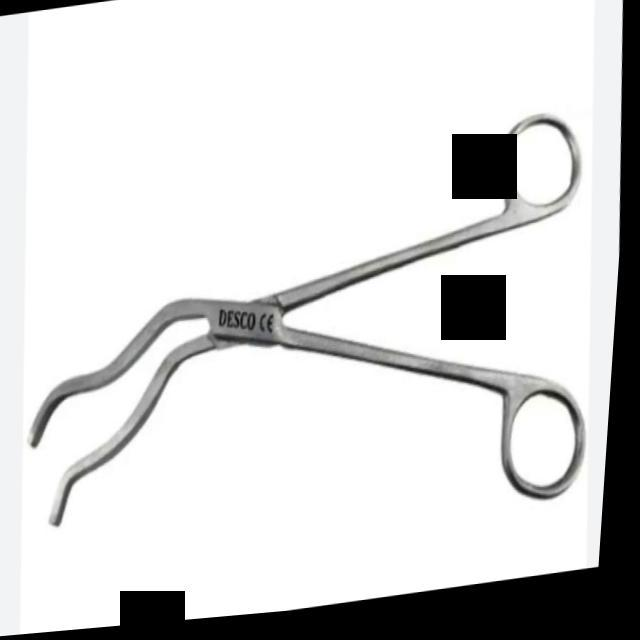Cheatle Forceps: (6, 113, 612, 577)
